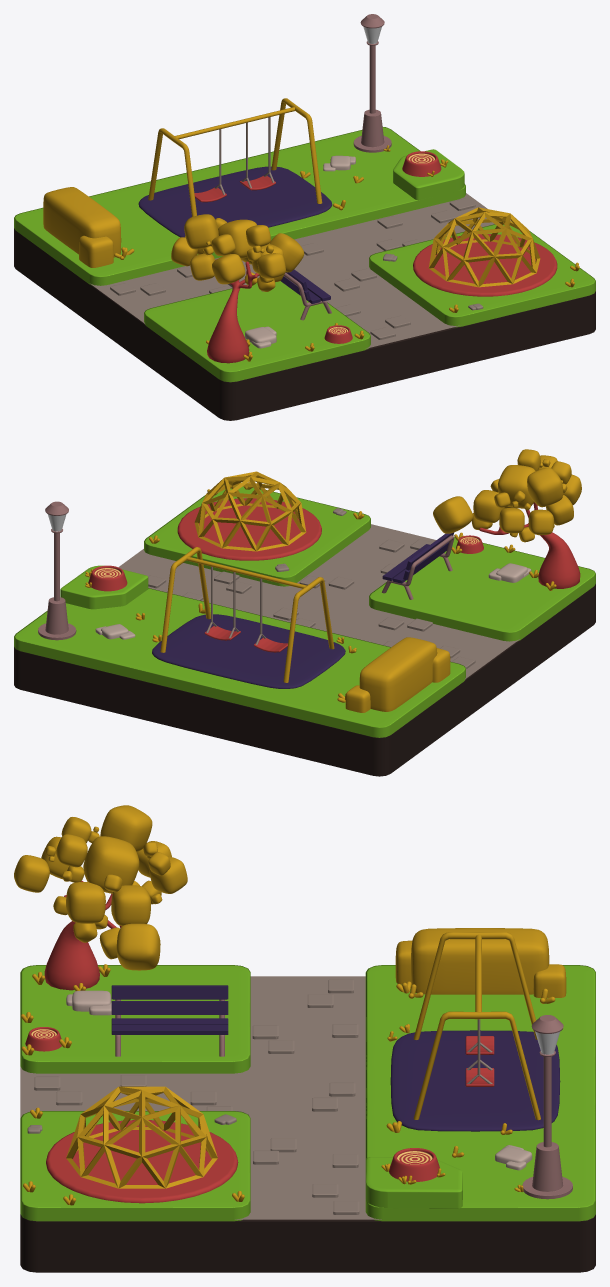
Rendered from Playground.fbx.
3 views of the same model, one above another, from view 1: azimuth 30°, elevation 25°; view 2: azimuth 150°, elevation 25°; view 3: azimuth 270°, elevation 25° (orthographic). The views are drawn at different scales.
Visible parts, largest first — view 1: mIdground, ground 2, pathyway, bush.007, Icosphere, Circle, bush.001, Tiles.016, Tree1.001, Vert.005, Lamp.002, Cube (+10 smaller); view 2: mIdground, ground 2, pathyway, bush.007, Icosphere, Circle, bush.001, Tiles.016, Vert.005, Cube, Lamp.002, Tree1.001 (+14 smaller); view 3: mIdground, pathyway, ground 2, bush.007, Icosphere, Circle, bush.001, Tiles.016, Plane.005, Cube, Lamp.002, Vert.005 (+14 smaller).
Part boxes in pixels (x1,y1,x2,y2): mIdground: [14, 127, 595, 382]; ground 2: [14, 228, 595, 420]; pathyway: [90, 193, 494, 348]; bush.007: [138, 166, 332, 237]; Icosphere: [428, 207, 540, 287]; Circle: [413, 234, 557, 296]; bush.001: [43, 187, 121, 257]; Tiles.016: [110, 198, 475, 339]; Tree1.001: [207, 259, 259, 363]; Vert.005: [148, 98, 322, 216]; Lamp.002: [353, 14, 391, 152]; Cube: [393, 149, 464, 200]; mIdground: [14, 486, 595, 737]; ground 2: [14, 584, 595, 776]; pathyway: [118, 524, 519, 679]; bush.007: [152, 614, 345, 688]; Icosphere: [194, 471, 306, 551]; Circle: [177, 498, 321, 560]; bush.001: [359, 637, 437, 711]; Tiles.016: [148, 539, 475, 669]; Vert.005: [160, 547, 334, 682]; Cube: [60, 565, 148, 609]; Lamp.002: [38, 501, 76, 640]; Tree1.001: [479, 502, 580, 588]; mIdground: [20, 965, 595, 1221]; pathyway: [20, 976, 381, 1219]; ground 2: [20, 1214, 595, 1272]; bush.007: [390, 1030, 560, 1131]; Icosphere: [66, 1086, 217, 1188]; Circle: [46, 1120, 238, 1203]; bush.001: [411, 928, 549, 994]; Tiles.016: [34, 979, 359, 1214]; Plane.005: [111, 985, 228, 1034]; Cube: [365, 1157, 462, 1208]; Lamp.002: [522, 1015, 572, 1199]; Vert.005: [413, 932, 540, 1120].
Size of what is drawn, in the model's own units: 798 by 359 by 800.
